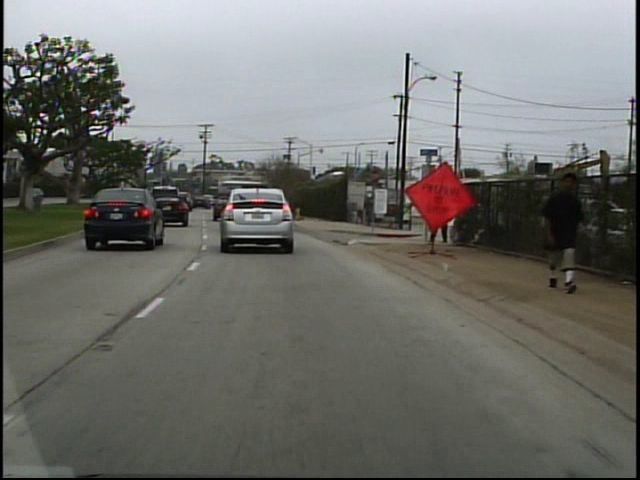person: (531, 163, 580, 299), (424, 183, 458, 248)
